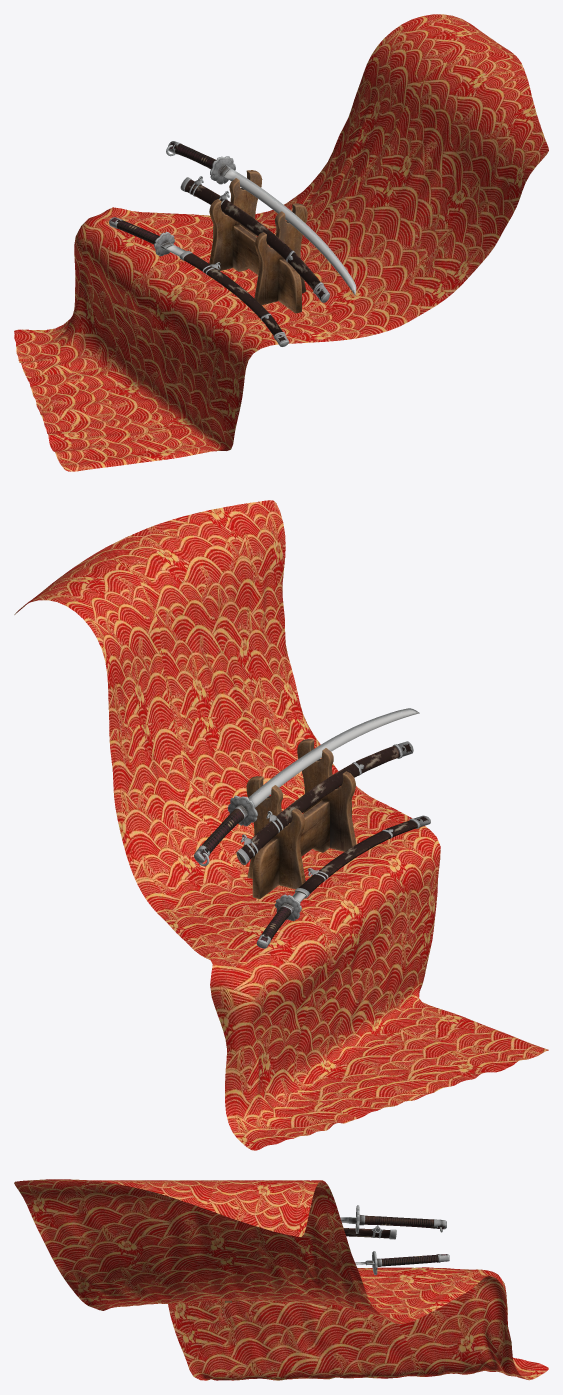
The model's file is katana-draco.glb.
3 views of the same model, one above another, from view 1: azimuth 30°, elevation 25°; view 2: azimuth 150°, elevation 25°; view 3: azimuth 270°, elevation 25° (orthographic). The views are drawn at different scales.
Visible parts, largest first — view 1: Plane, podstavLP.001, Blade.001, Scrab.001, Scrab.005, Blade.003; view 2: Plane, podstavLP.001, Blade.001, Scrab.001, Scrab.005, Blade.003; view 3: Plane, Blade.001, Blade.003, Scrab.001.
Part boxes in pixels (x1,y1,x2,y2): Plane: [14, 14, 548, 471]; podstavLP.001: [209, 170, 307, 313]; Blade.001: [166, 141, 356, 295]; Scrab.001: [180, 176, 329, 302]; Scrab.005: [179, 250, 289, 346]; Blade.003: [109, 217, 185, 256]; Plane: [14, 500, 548, 1150]; podstavLP.001: [246, 739, 356, 898]; Blade.001: [194, 708, 419, 866]; Scrab.001: [236, 741, 413, 865]; Scrab.005: [295, 815, 430, 898]; Blade.003: [256, 891, 305, 948]; Plane: [14, 1179, 548, 1380]; Blade.001: [340, 1205, 446, 1233]; Blade.003: [355, 1251, 449, 1275]; Scrab.001: [343, 1225, 396, 1239].
Bounding box in the file's own units: 1.12 × 0.7933 × 1.19.
2 materials, 2 textured.
